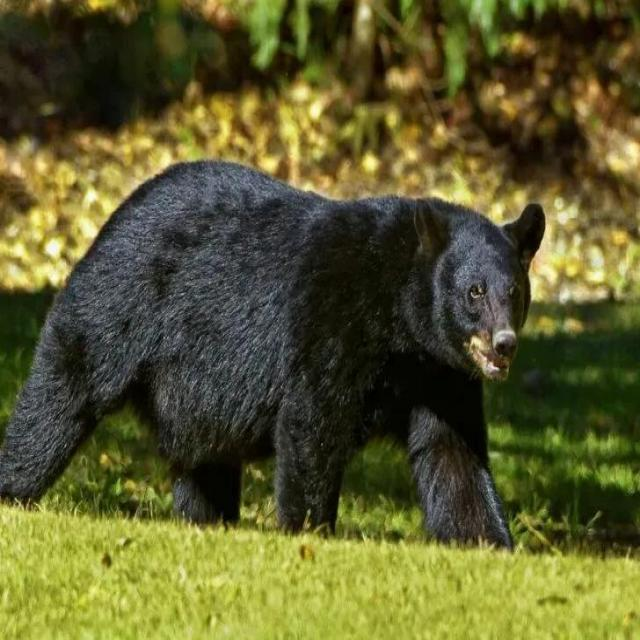Bear: (0, 159, 547, 551)
